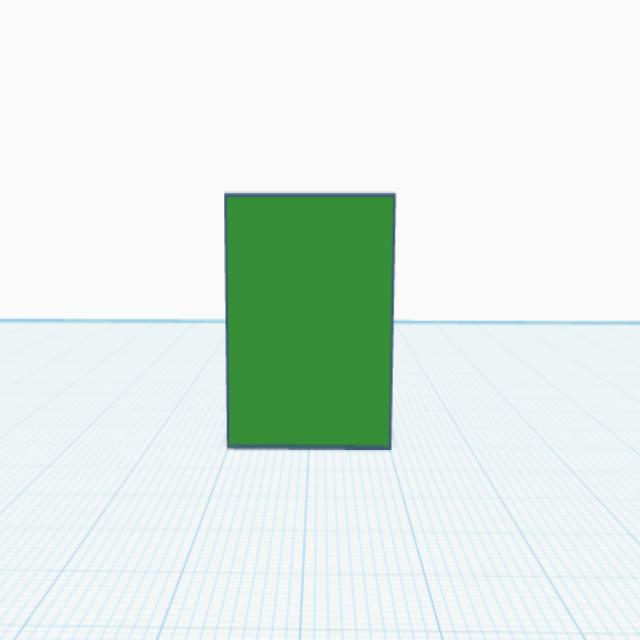cube: (218, 181, 399, 460)
